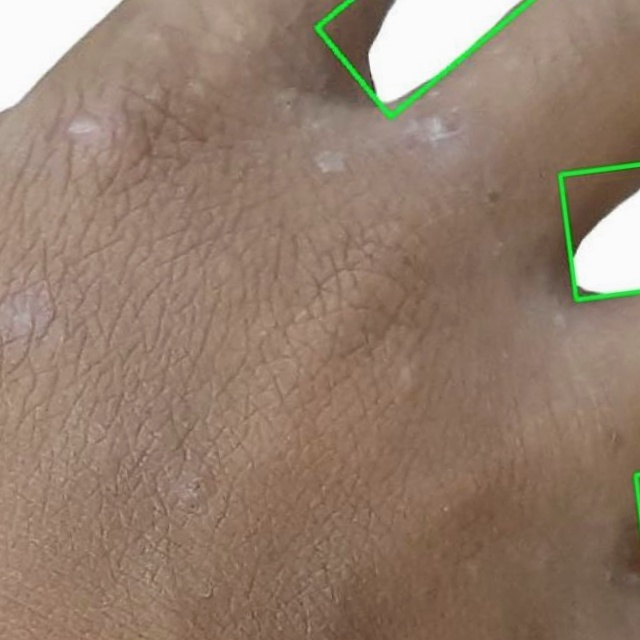Scabies: (560, 164, 639, 299)
